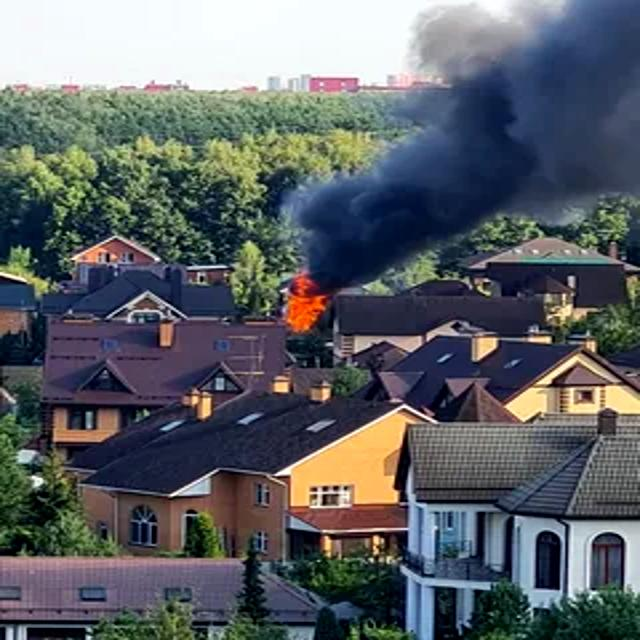no_helmet: (288, 2, 640, 294)
